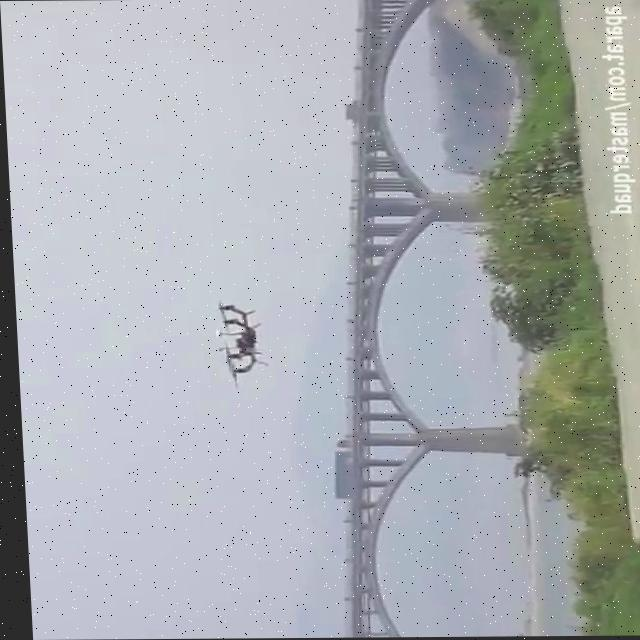drone: (202, 295, 270, 390)
